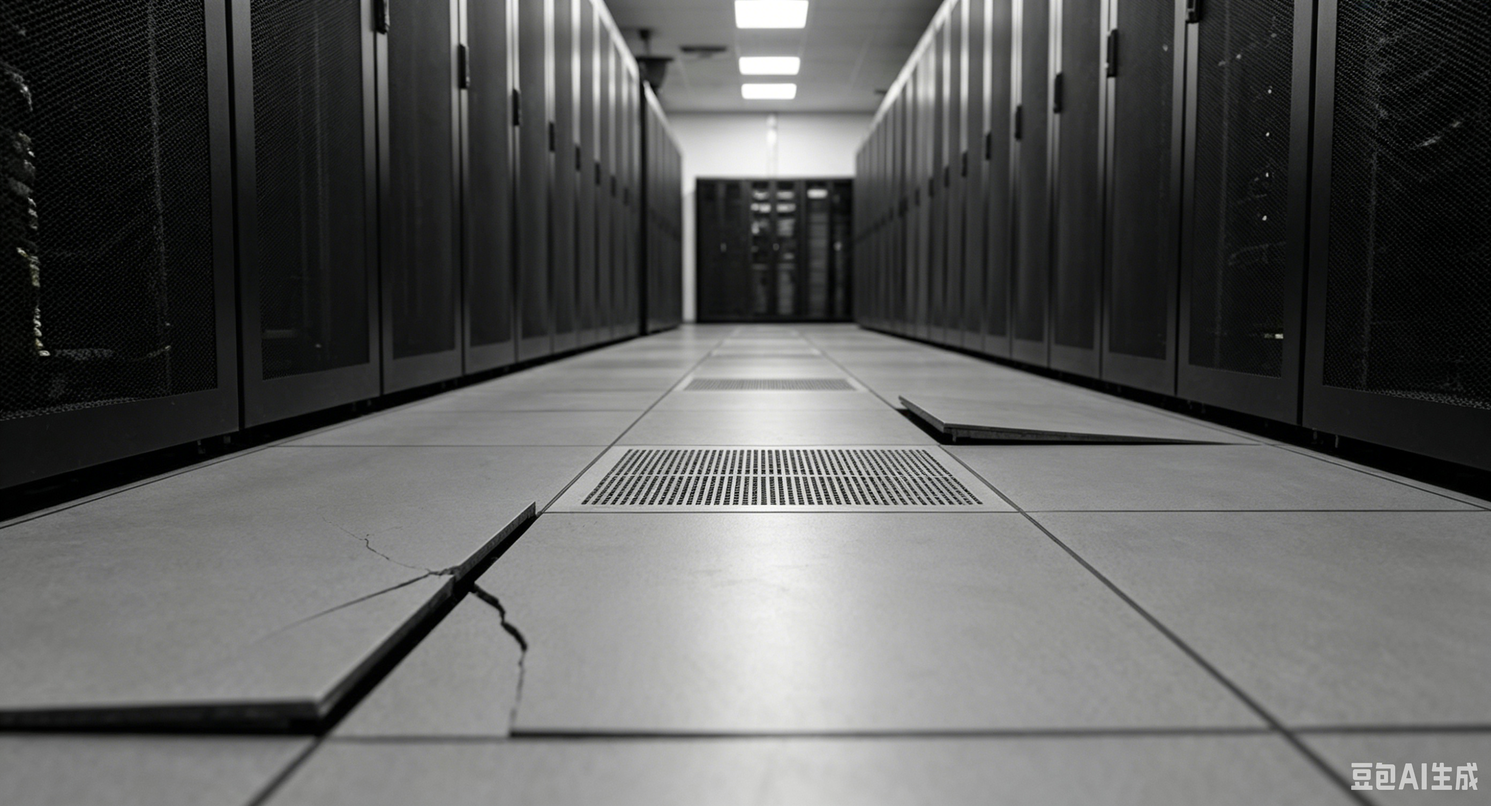floor_defect: (883, 384, 1276, 456), (7, 685, 361, 748), (471, 583, 570, 761), (341, 517, 475, 600), (342, 599, 456, 686), (463, 488, 545, 577)
